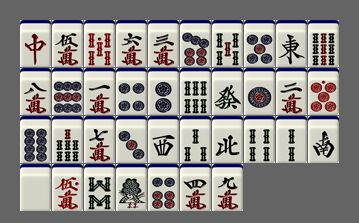0m: (52, 164, 83, 211)
0p: (308, 68, 339, 115)
0s: (84, 20, 115, 67)
1m: (84, 68, 115, 115)
1p: (244, 68, 275, 115)
1s: (116, 164, 147, 211)
1z: (276, 20, 307, 67)
2m: (276, 68, 307, 115)
2p: (148, 68, 179, 115)
2s: (276, 116, 307, 163)
2z: (308, 116, 339, 163)
3m: (148, 20, 179, 67)
3p: (116, 116, 147, 163)
3s: (180, 116, 211, 163)
3z: (148, 116, 179, 163)
4m: (180, 164, 211, 211)
4p: (116, 68, 147, 115)
4s: (244, 116, 275, 163)
4z: (212, 116, 243, 163)
5m: (52, 20, 83, 67)
5p: (244, 20, 275, 67)
5s: (212, 20, 243, 67)
5z: (20, 164, 51, 211)
6m: (116, 20, 147, 67)
6p: (148, 164, 179, 211)
6s: (180, 68, 211, 115)
6z: (212, 68, 243, 115)
7m: (84, 116, 115, 163)
7p: (180, 20, 211, 67)
7s: (52, 116, 83, 163)
7z: (20, 20, 51, 67)
8m: (20, 68, 51, 115)
8p: (20, 116, 51, 163)
8s: (84, 164, 115, 211)
9m: (212, 164, 243, 211)
9p: (52, 68, 83, 115)
9s: (308, 20, 339, 67)
